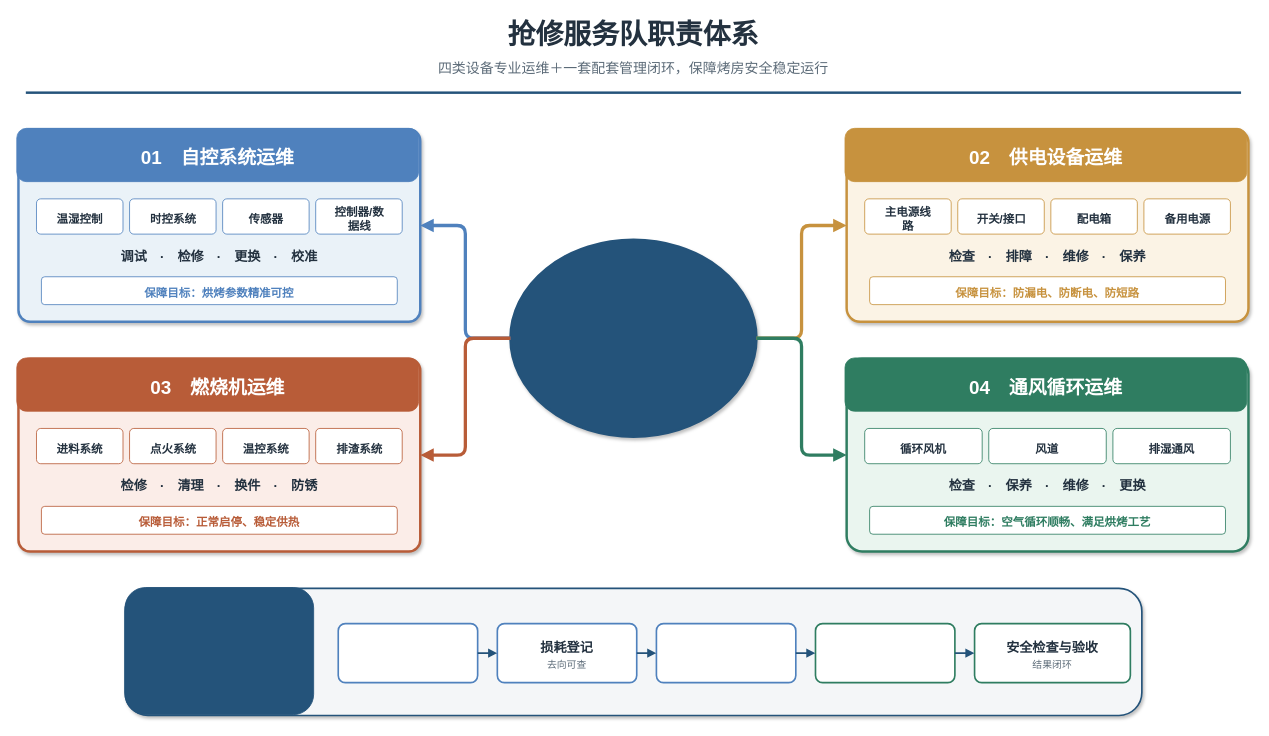
The diagram is 1269 pixels wide and 736 high, and some of its shapes have lost their labels. The shapes that lost their labels are listed below. From the top down, each one's centre as x and y in pixels, then its label:
pixel 634 339: 抢修服务队 参数可控 ｜ 供电可靠 供热稳定 ｜ 通风顺畅 快速响应 · 专业处置 · 闭环留痕
pixel 219 651: 配套管理 贯穿抢修全过程
pixel 407 652: 配件清点 库存可知
pixel 725 652: 维修台账 过程留痕
pixel 884 652: 问题上报 老化·批量故障
